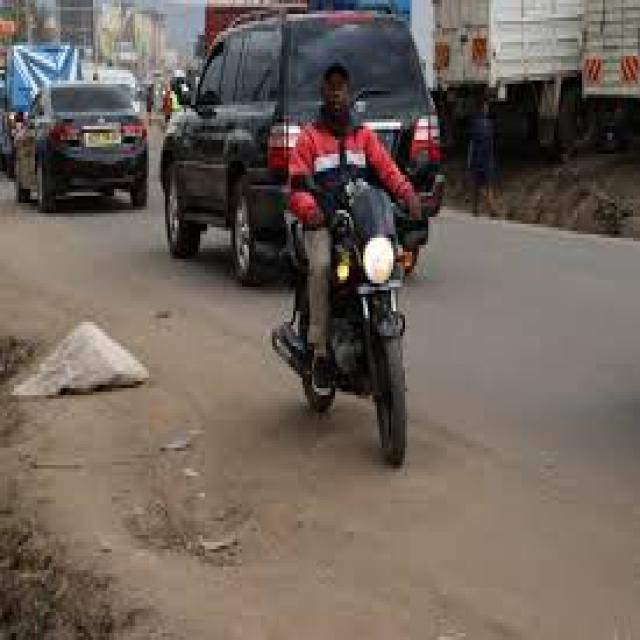bodaboda: (230, 117, 477, 494)
